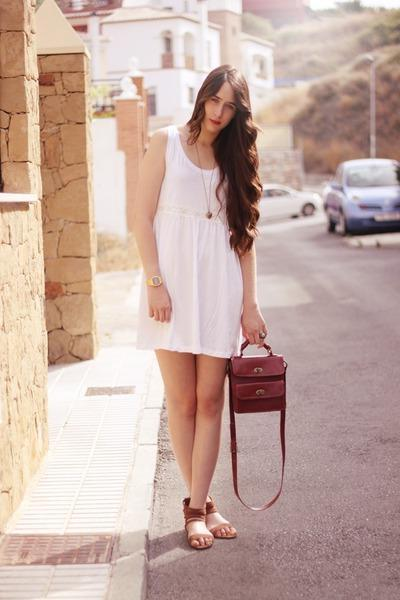dress: (139, 125, 258, 359)
